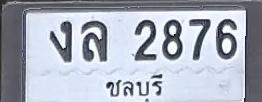2: (134, 19, 156, 61)
6: (216, 18, 237, 59)
7: (188, 18, 210, 60)
8: (161, 19, 182, 60)
A07: (49, 20, 72, 62)
A36: (81, 20, 108, 61)
CBI: (101, 72, 169, 102)
